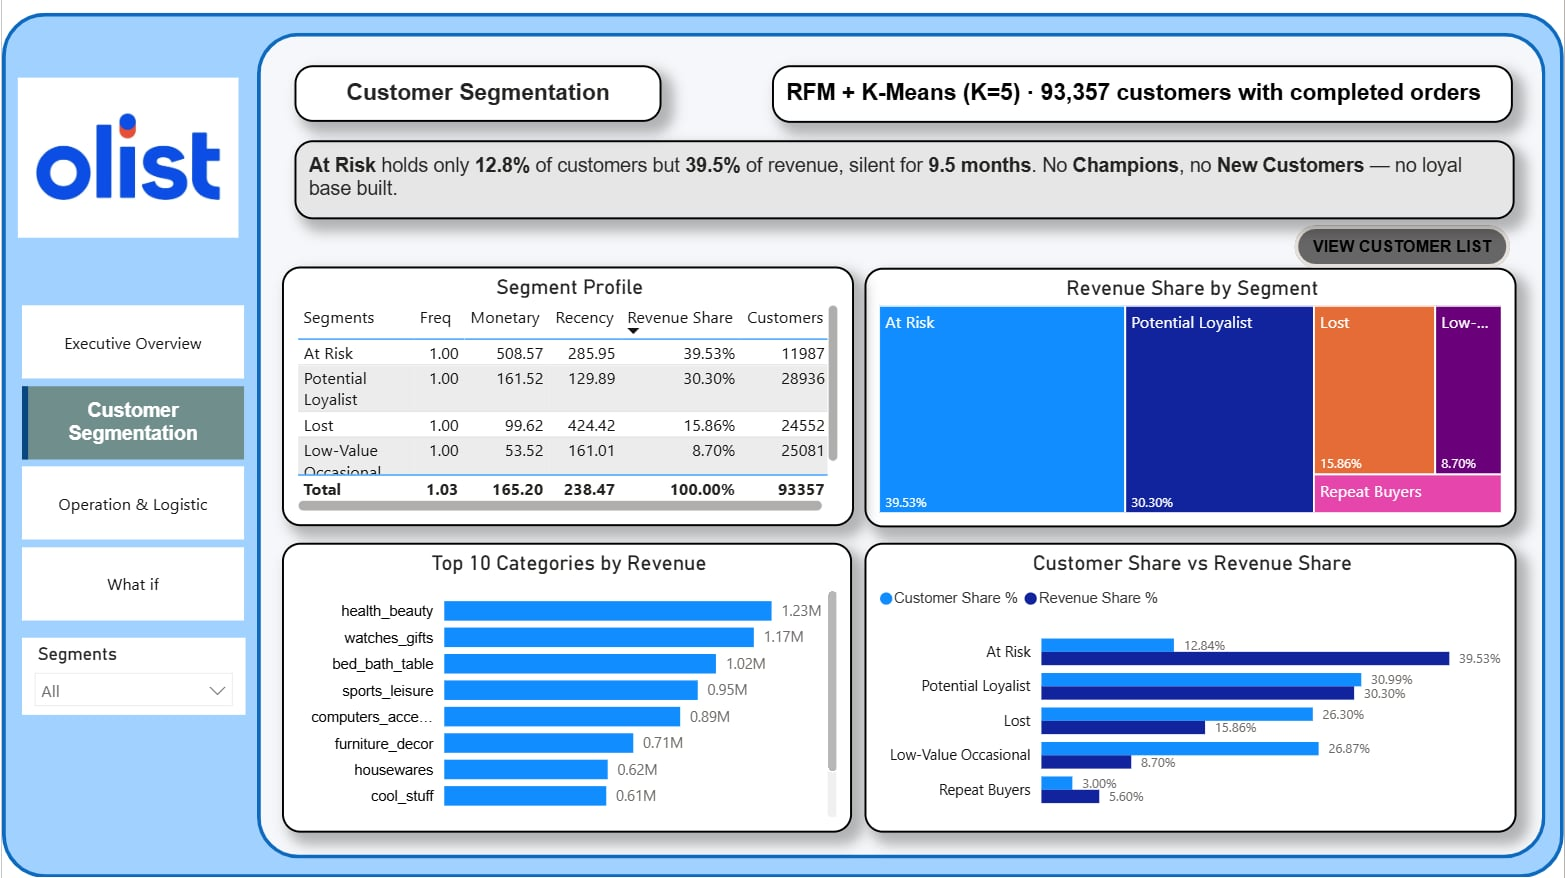

The page's visual inventory and layout, read from the dashboard file:
{"tool":"powerbi","page":{"name":"Customer Segmentation","canvas":[1280,720],"ordinal":1},"visuals":[{"type":"shape","box":[0,11.2,1280,709.1],"z":0},{"type":"shape","box":[209,27.4,1056.1,676.7],"z":1000},{"type":"treemap","title":"Revenue Share by Segment","fields":{"Values":["_Measures (2).Revenue Share %"],"Group":["dim_customers.current_segment"]},"box":[707.2,220.7,534.3,212.9],"z":2000},{"type":"tableEx","title":"Segment Profile","fields":{"Values":["dim_customers.current_segment","Avg(fact_rfm_segments.frequency)","Avg(fact_rfm_segments.monetary)","Avg(fact_rfm_segments.recency)","_Measures (2).Revenue Share %","_Measures (2).Customers (RFM)"]},"box":[229.7,219.4,468.5,212.9],"z":3000},{"type":"slicer","fields":{"Values":["dim_customers.current_segment"]},"box":[16.2,523.7,182.9,63.4],"z":4000},{"type":"pageNavigator","box":[16.2,251.3,182.9,258.7],"z":5000},{"type":"image","box":[8.7,27.4,190.3,205.3],"z":6000},{"type":"actionButton","box":[1059,185,176.6,34.8],"z":7000},{"type":"textbox","box":[630.7,54.7,607.1,47.3],"z":8000},{"type":"textbox","box":[240.1,115.7,1000.1,64.7],"z":9000},{"type":"clusteredBarChart","title":"Top 10 Categories by Revenue","fields":{"Category":["dim_products.product_category_name_english"],"Y":["Sum(fact_order_items.price)"]},"box":[229.7,445.3,467.2,237.5],"z":10000},{"type":"textbox","box":[240.1,54.7,301,46],"z":11000},{"type":"clusteredBarChart","title":"Customer Share vs Revenue Share","fields":{"Category":["dim_customers.current_segment"],"Y":["_Measures (2).Customer Share %","_Measures (2).Revenue Share %"]},"box":[707.2,445.3,534.3,237.5],"z":12000}]}

Visuals, with their boxes in screenshot pixels (x1, y1, x2, y2), scaled from the page's 1280x720 canvas onto the 1565x878 screenshot:
shape: (0,14,1564,877)
shape: (256,33,1547,859)
"Revenue Share by Segment" treemap: (865,269,1518,529)
"Segment Profile" tableEx: (281,268,854,527)
slicer - dim_customers.current_segment: (20,639,243,716)
pageNavigator: (20,306,243,622)
image: (11,33,243,284)
actionButton: (1295,226,1511,268)
textbox: (771,67,1513,124)
textbox: (294,141,1516,220)
"Top 10 Categories by Revenue" clusteredBarChart: (281,543,852,833)
textbox: (294,67,662,123)
"Customer Share vs Revenue Share" clusteredBarChart: (865,543,1518,833)
